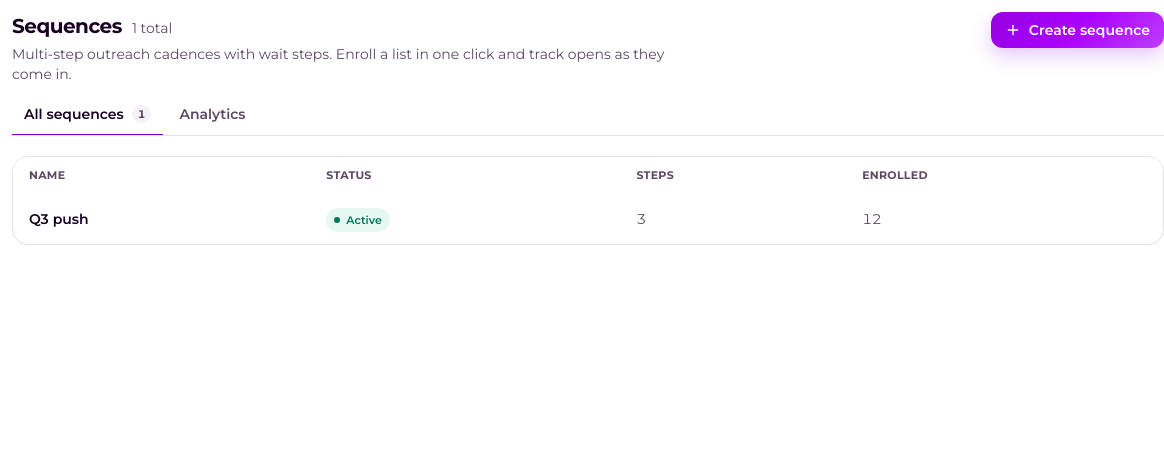
Scenario: Sequences › Analytics tab shows the KPI grid and per-sequence table
Expected: the link "Q3 push" is shown, [29, 210, 89, 228]
Click the button "Analytics" at [213, 118], box [168, 100, 258, 136]
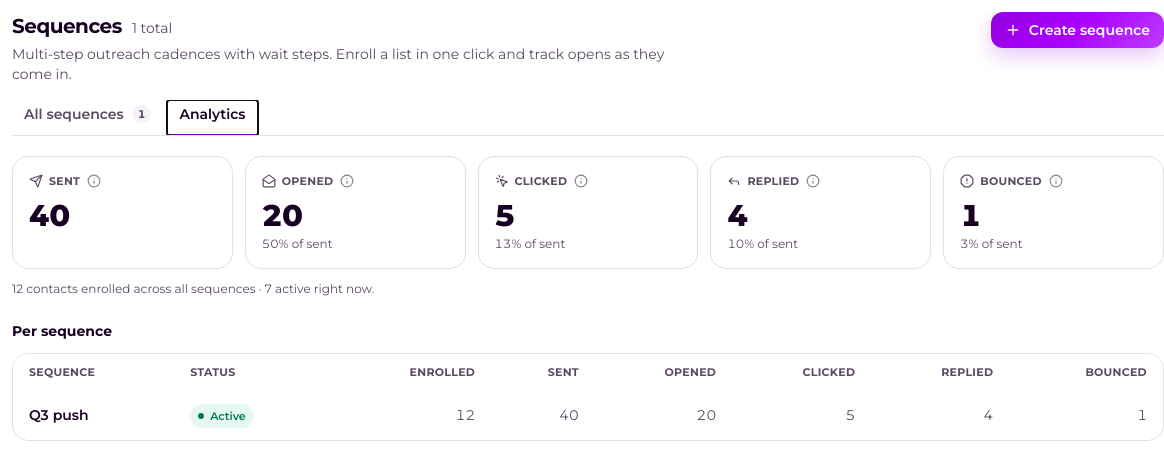
Expected: the text "40" is shown, [29, 196, 70, 234]
Expected: the text "50% of sent" is shown, [262, 236, 332, 250]
Expected: the text "12 contacts enrolled across all sequences · 7 active right now." is shown, [12, 280, 374, 296]
